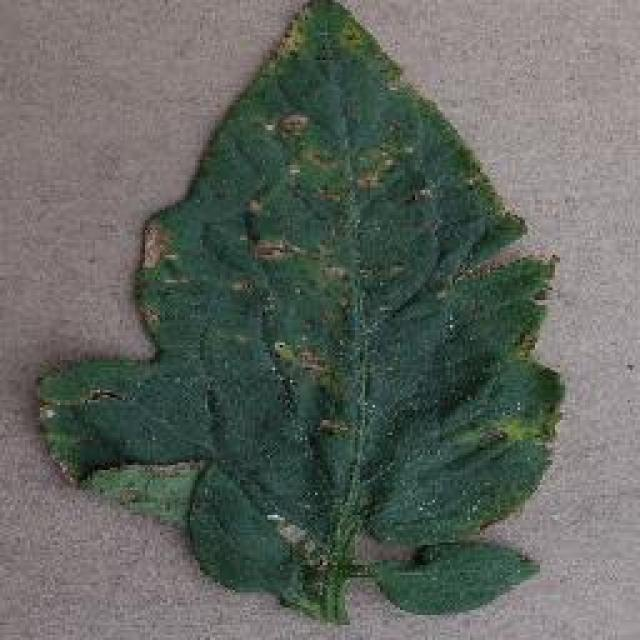bacterial spot: (34, 0, 567, 624)
